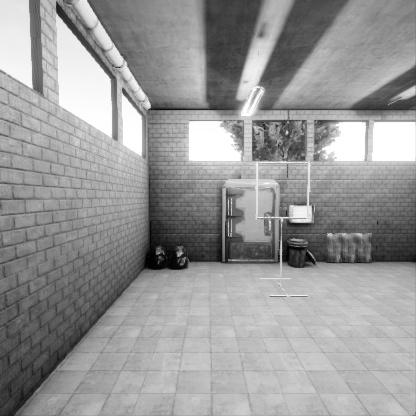gate: (255, 199, 313, 256)
